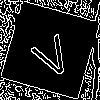V: (25, 25, 76, 82)
